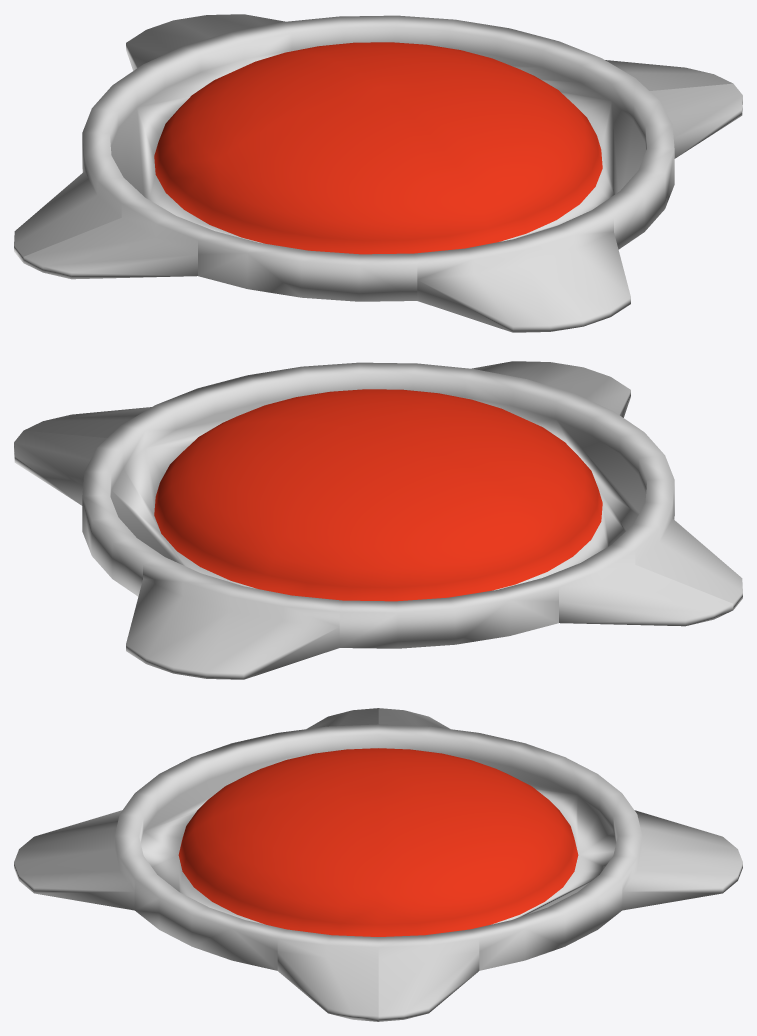
Rendered from HollowPlate01.fbx.
3 views of the same model, one above another, from view 1: azimuth 30°, elevation 25°; view 2: azimuth 150°, elevation 25°; view 3: azimuth 270°, elevation 25° (orthographic). The views are drawn at different scales.
Parts seen in each view (by area): view 1: HollowPlate01; view 2: HollowPlate01; view 3: HollowPlate01.
Boxes of the visible parts, left/top/right/bottom form: HollowPlate01: left=14, top=14, right=742, bottom=332; HollowPlate01: left=14, top=361, right=742, bottom=679; HollowPlate01: left=14, top=708, right=742, bottom=1021.
Size of the model in its own units: 290 by 34.56 by 290.
